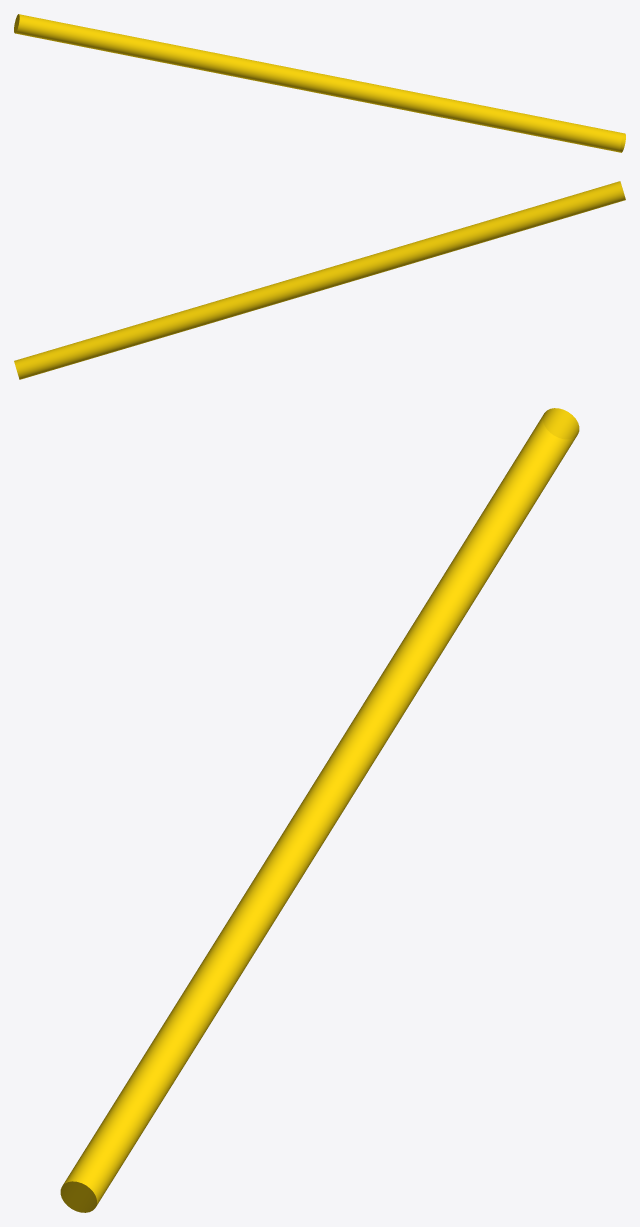
Rendered from Event_421278790_track_3.fbx.
3 views of the same model, one above another, from view 1: azimuth 30°, elevation 25°; view 2: azimuth 210°, elevation 25°; view 3: azimuth 270°, elevation 25° (orthographic). The views are drawn at different scales.
Visible parts, largest first — view 1: Model; view 2: Model; view 3: Model.
Part boxes in pixels (x1,y1,x2,y2): Model: [14, 14, 625, 152]; Model: [14, 181, 625, 379]; Model: [60, 408, 579, 1212].
Size of the model in its own units: 1.15 by 0.3705 by 0.5216.
